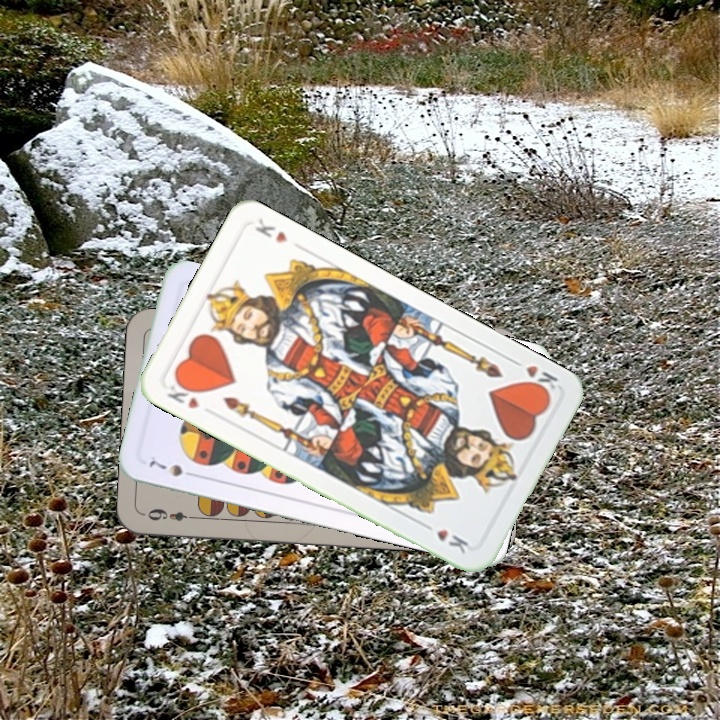E9: (144, 505, 200, 524)
HK: (507, 355, 561, 399), (163, 376, 203, 411)
S7: (144, 456, 200, 480)
